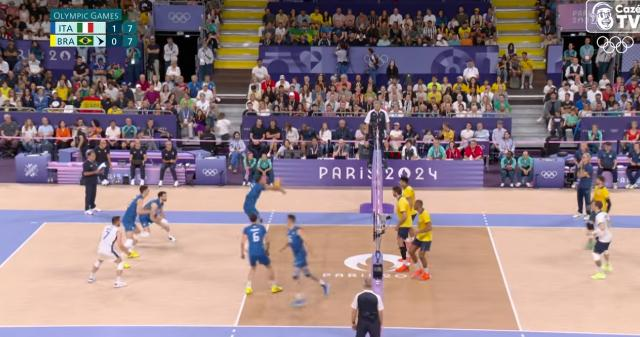Levantador: (245, 213, 273, 291), (594, 175, 610, 205)
Libero: (590, 201, 614, 282), (91, 216, 122, 274)
bola: (272, 176, 284, 192)
